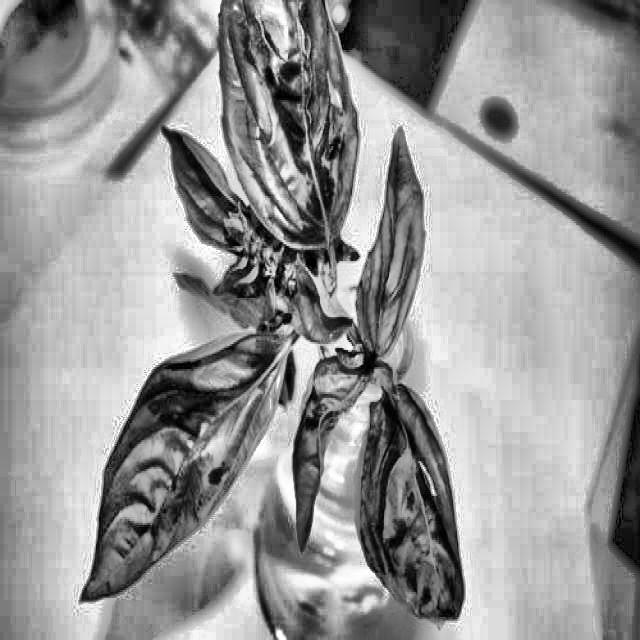plants: (101, 0, 512, 638), (218, 2, 362, 269), (361, 388, 479, 638)
